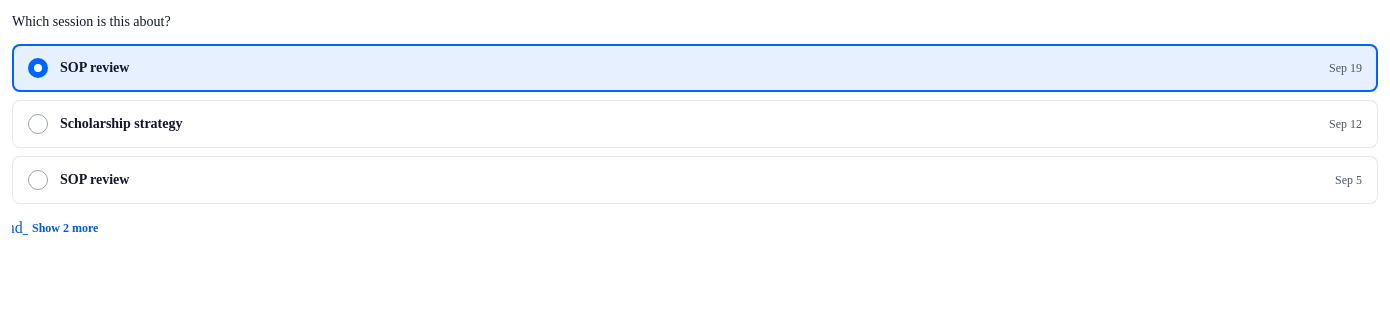
Test case: SessionPickRows › three show; "Show 2 more" reveals the rest and moves focus to the first of them
Click the button "expand_more Show 2 more".
click(55, 228)  # box [12, 212, 98, 244]
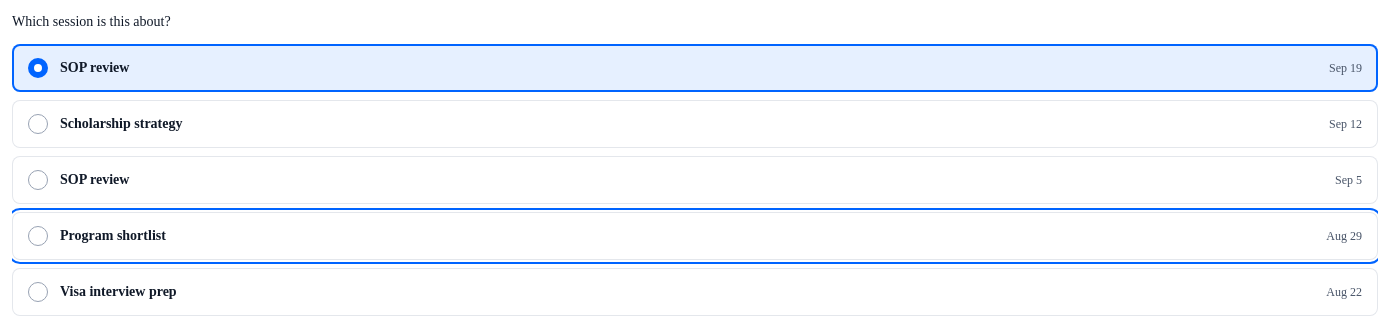
Now the number of radio buttons is 5, box [12, 44, 1378, 92]; [12, 100, 1378, 148]; [12, 156, 1378, 204]; [12, 212, 1378, 260]; [12, 268, 1378, 316]
Now the button "more" is gone
